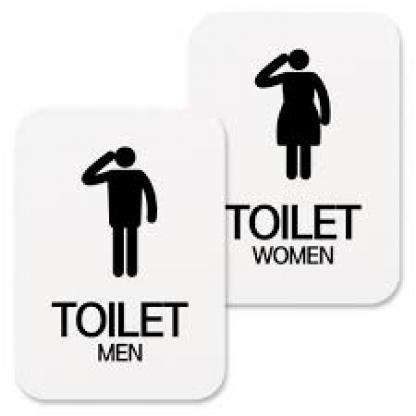toilet: (255, 45, 331, 184), (83, 143, 158, 280)
